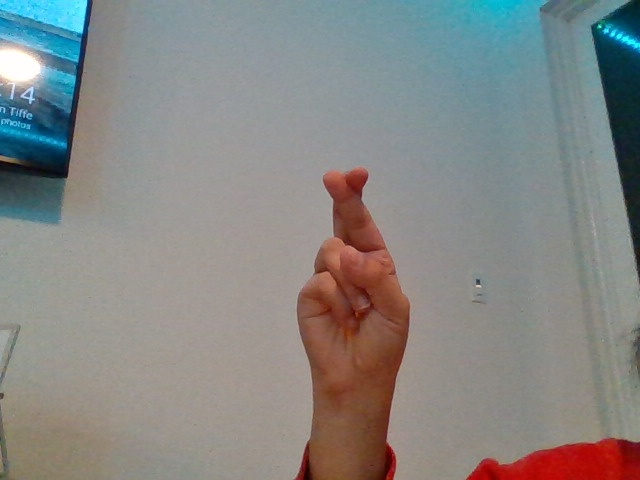r: (290, 165, 413, 478)
